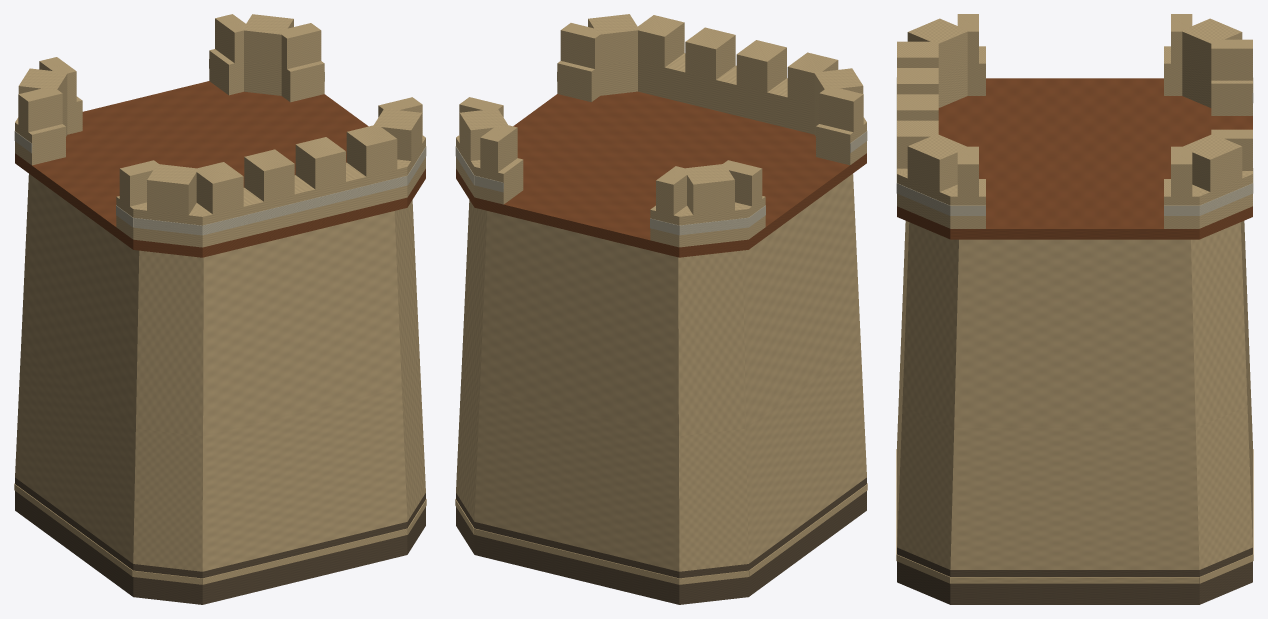
The model's file is Berber_Bastion_Age3_tee.fbx.
3 renders of one model, left to right at view 1: azimuth 30°, elevation 25°; view 2: azimuth 150°, elevation 25°; view 3: azimuth 270°, elevation 25°, orthographic. The views are drawn at different scales.
Visible parts, largest first — view 1: tee_battered_upper, tee_battered_lower, tee_continuous_walk_floor, tee_stone_foot, tee_guard_0_0, tee_owner_band_0_0, tee_guard_7_0, tee_guard_6_0, tee_merlon_0_0_1, tee_merlon_0_0_3, tee_merlon_0_0_2, tee_merlon_7_0_0 (+21 smaller); view 2: tee_battered_upper, tee_battered_lower, tee_continuous_walk_floor, tee_stone_foot, tee_guard_0_0, tee_guard_5_0, tee_merlon_0_0_2, tee_guard_6_1, tee_merlon_0_0_1, tee_guard_2_0, tee_foundation_bond_4, tee_merlon_0_0_3 (+22 smaller); view 3: tee_battered_upper, tee_battered_lower, tee_continuous_walk_floor, tee_stone_foot, tee_foundation_bond_2, tee_merlon_3_0_0, tee_merlon_1_0_0, tee_guard_4_1, tee_guard_1_0, tee_guard_3_0, tee_merlon_4_1_0, tee_guard_2_1 (+20 smaller).
Part boxes in pixels (bbox=[...]): tee_battered_upper: bbox=[21, 174, 419, 436]; tee_battered_lower: bbox=[15, 345, 425, 571]; tee_continuous_walk_floor: bbox=[15, 81, 425, 257]; tee_stone_foot: bbox=[15, 477, 425, 604]; tee_guard_0_0: bbox=[192, 160, 407, 247]; tee_owner_band_0_0: bbox=[202, 175, 407, 235]; tee_guard_7_0: bbox=[133, 203, 206, 247]; tee_guard_6_0: bbox=[15, 122, 65, 165]; tee_merlon_0_0_1: bbox=[244, 159, 294, 201]; tee_merlon_0_0_3: bbox=[346, 132, 397, 176]; tee_merlon_0_0_2: bbox=[295, 145, 345, 189]; tee_merlon_7_0_0: bbox=[147, 173, 196, 215]; tee_battered_upper: bbox=[462, 174, 860, 436]; tee_battered_lower: bbox=[456, 345, 866, 571]; tee_continuous_walk_floor: bbox=[456, 91, 866, 257]; tee_stone_foot: bbox=[456, 477, 866, 604]; tee_guard_0_0: bbox=[638, 53, 814, 134]; tee_guard_5_0: bbox=[679, 202, 748, 247]; tee_merlon_0_0_2: bbox=[685, 35, 735, 79]; tee_guard_6_1: bbox=[816, 121, 866, 165]; tee_merlon_0_0_1: bbox=[736, 48, 786, 92]; tee_guard_2_0: bbox=[557, 61, 600, 102]; tee_foundation_bond_4: bbox=[474, 528, 679, 584]; tee_merlon_0_0_3: bbox=[638, 23, 684, 67]; tee_battered_upper: bbox=[902, 221, 1247, 427]; tee_battered_lower: bbox=[897, 312, 1252, 569]; tee_continuous_walk_floor: bbox=[897, 78, 1252, 239]; tee_stone_foot: bbox=[897, 547, 1252, 604]; tee_foundation_bond_2: bbox=[950, 577, 1199, 583]; tee_merlon_3_0_0: bbox=[1192, 147, 1242, 191]; tee_merlon_1_0_0: bbox=[907, 147, 957, 191]; tee_guard_4_1: bbox=[1211, 80, 1252, 115]; tee_guard_1_0: bbox=[897, 170, 957, 228]; tee_guard_3_0: bbox=[1170, 171, 1252, 228]; tee_merlon_4_1_0: bbox=[1211, 48, 1252, 80]; tee_guard_2_1: bbox=[1164, 179, 1199, 228].
Size of the model in its own units: 603 by 820 by 603.
4 materials, 4 textured.
